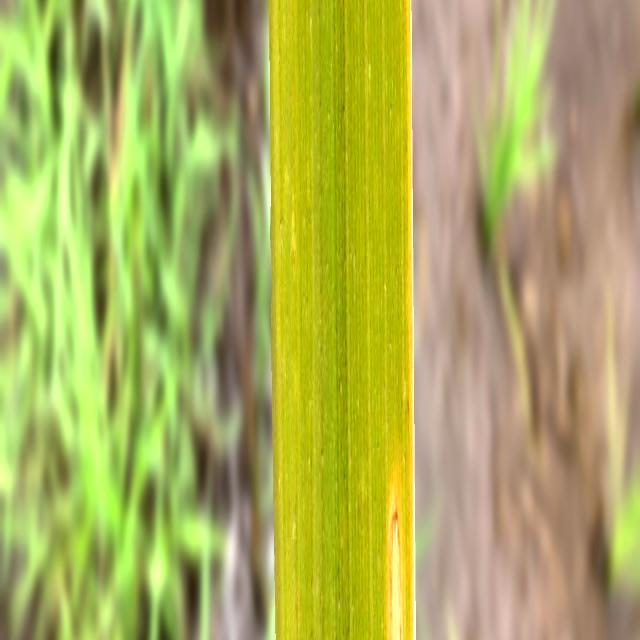BLS: (407, 0, 413, 640), (389, 496, 404, 640)
